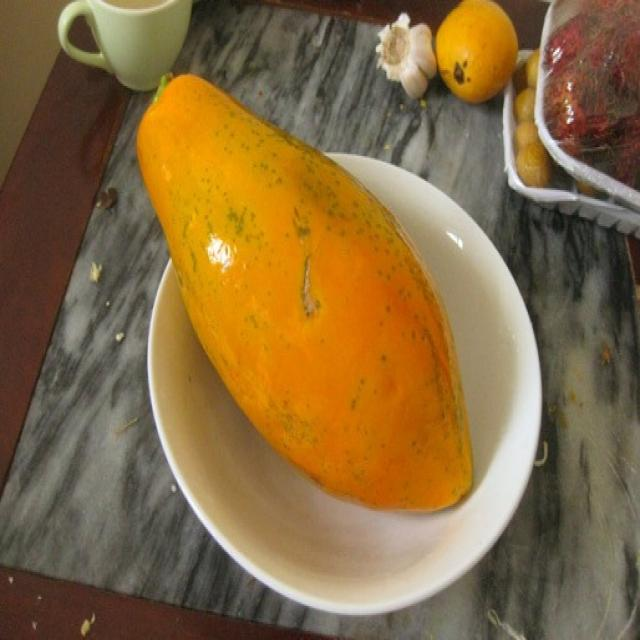Pepaya rippen: (132, 52, 476, 522)
